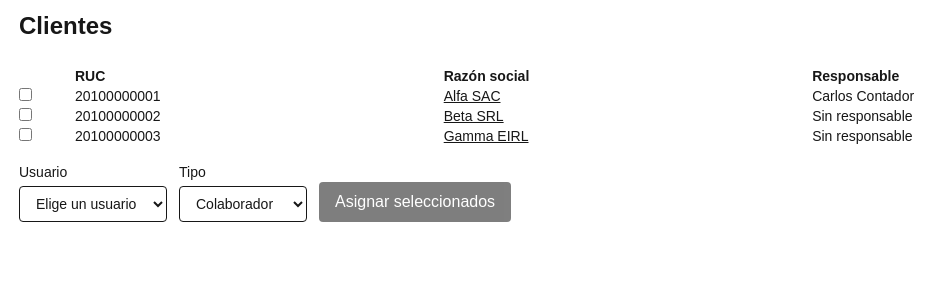
/clientes › 409 miembro_no_asignable y 403 muestran su mensaje genérico
Click the checkbox named "Seleccionar Beta SRL".
click(26, 114)  # box [19,108,32,121]
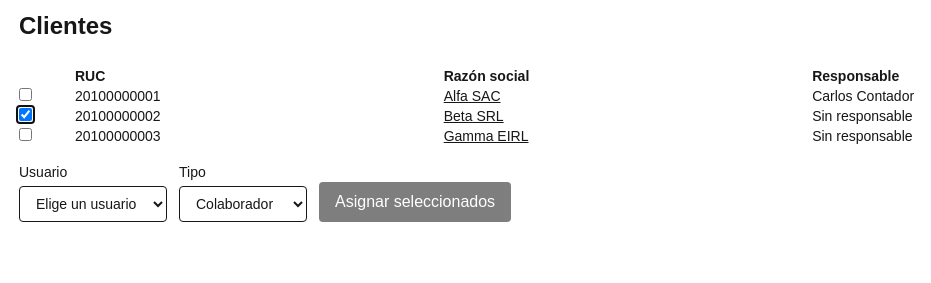
Select "Beto Asistente" in the dropdown labelled "Usuario" at (93, 204), box [19,186,167,222]
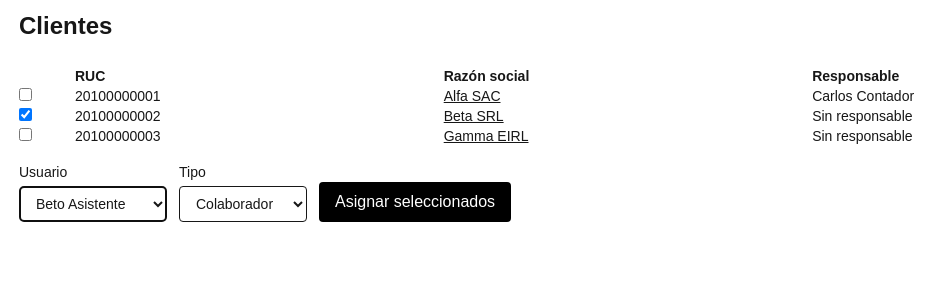
Click the button "Asignar seleccionados".
click(415, 202)  # box [319,182,511,222]
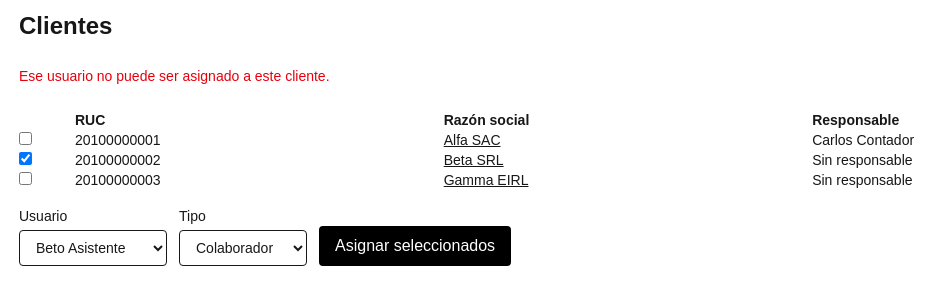
Result: the text "Ese usuario no puede ser asignado a este cliente." is shown at [19,68,330,84]
Click the button "Asignar seleccionados".
click(415, 246)  # box [319,226,511,266]
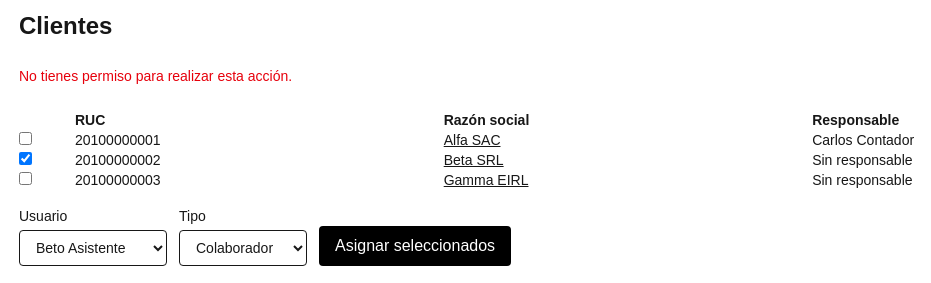
Result: the text "No tienes permiso para realizar esta acción." is shown at [19,68,292,84]
